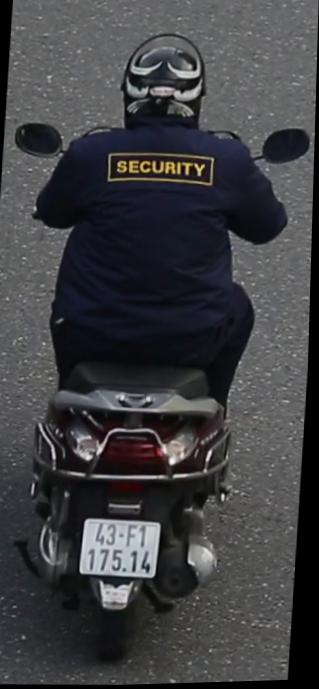LP: (78, 509, 168, 584)
helmet: (117, 26, 215, 130)
